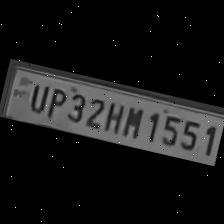1: (196, 118, 222, 156), (140, 105, 163, 143)
2: (82, 92, 108, 130)
3: (62, 88, 87, 124)
5: (176, 114, 202, 152), (157, 110, 183, 147)
H: (100, 97, 127, 134)
M: (120, 100, 146, 140)
P: (42, 82, 68, 120)
U: (24, 78, 50, 114)
